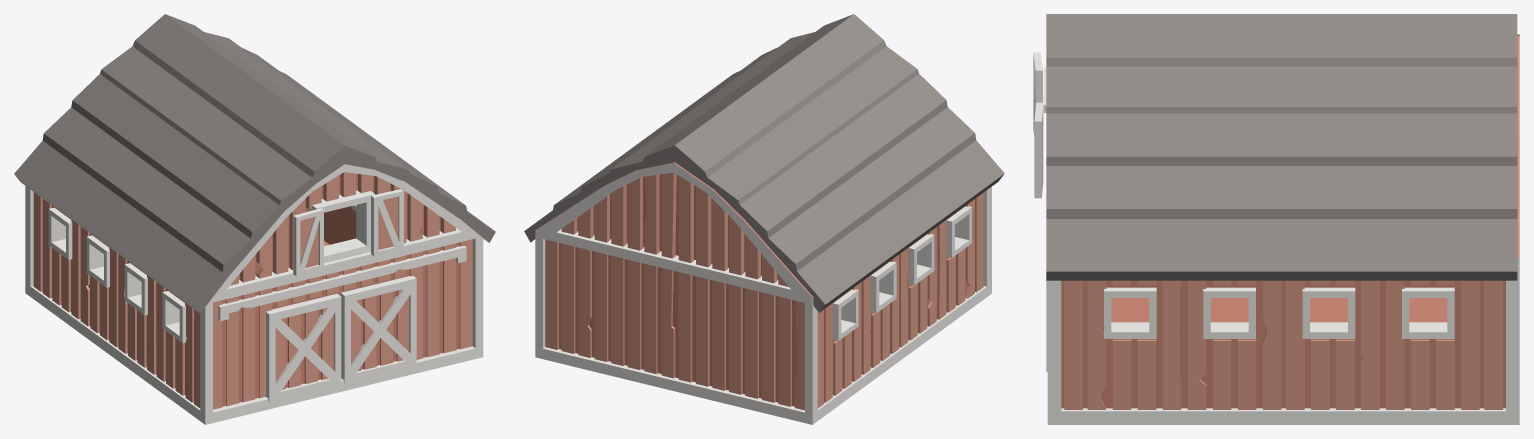
Rendered from Barn.glb.
The picture shows the model from 3 angles, left to right: view 1: azimuth 30°, elevation 25°; view 2: azimuth 150°, elevation 25°; view 3: azimuth 270°, elevation 25°; orthographic projection. The views are drawn at different scales.
Parts seen in each view (by area): view 1: Barn_Cube.005, Barn_Door_Cube.002, Barn_Door2_Cube.007, Barn_Window_Cube, Barn_Window2_Cube.014; view 2: Barn_Cube.005; view 3: Barn_Cube.005, Barn_Window_Cube, Barn_Window2_Cube.014.
Boxes of the visible parts, box(x1,y1,x2,y2) form: Barn_Cube.005: box(14, 14, 495, 424); Barn_Door_Cube.002: box(340, 276, 416, 383); Barn_Door2_Cube.007: box(266, 294, 341, 401); Barn_Window_Cube: box(371, 189, 403, 256); Barn_Window2_Cube.014: box(293, 208, 323, 276); Barn_Cube.005: box(524, 14, 1004, 424); Barn_Cube.005: box(1043, 14, 1519, 424); Barn_Window_Cube: box(1034, 102, 1043, 198); Barn_Window2_Cube.014: box(1033, 52, 1042, 135).
Size of the model in its own units: 7.73 by 6.01 by 8.22.
